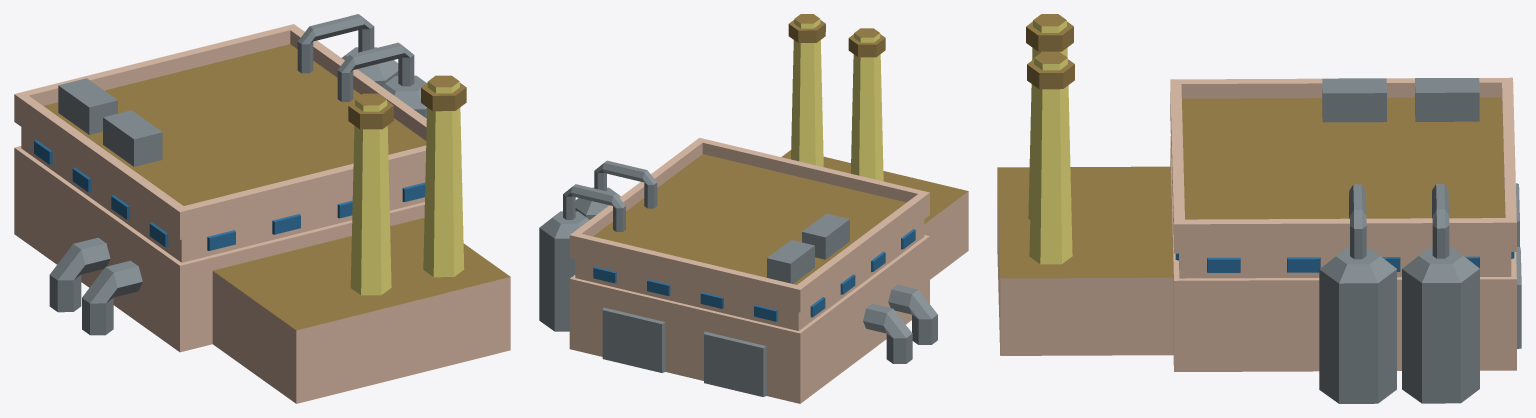
File: FactoryAir_1.fbx
3 renders of one model, left to right at view 1: azimuth 30°, elevation 25°; view 2: azimuth 150°, elevation 25°; view 3: azimuth 270°, elevation 25°, orthographic. The views are drawn at different scales.
Parts seen in each view (by area): view 1: factory 1.001; view 2: factory 1.001; view 3: factory 1.001.
Boxes of the visible parts, box(x1,y1,x2,y2) form: factory 1.001: box(14, 14, 510, 403); factory 1.001: box(539, 14, 968, 403); factory 1.001: box(997, 14, 1521, 403).
Bounding box in the file's own units: 573 × 364 × 626.
